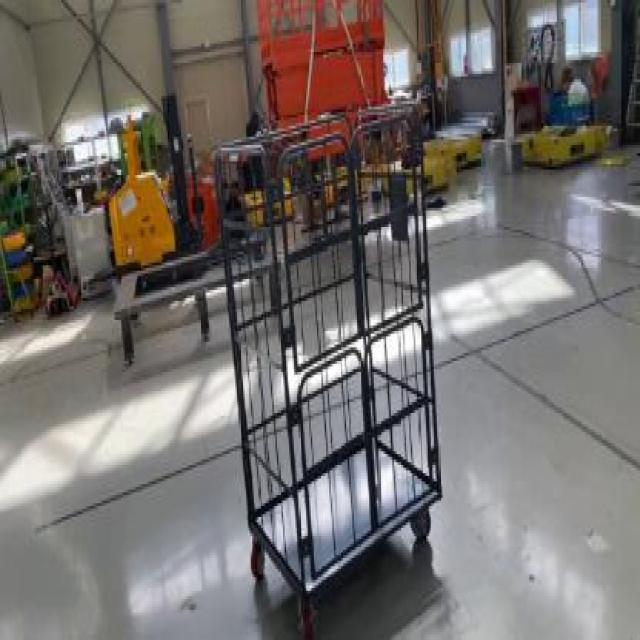cart: (220, 101, 438, 618)
robot: (102, 79, 218, 279)
